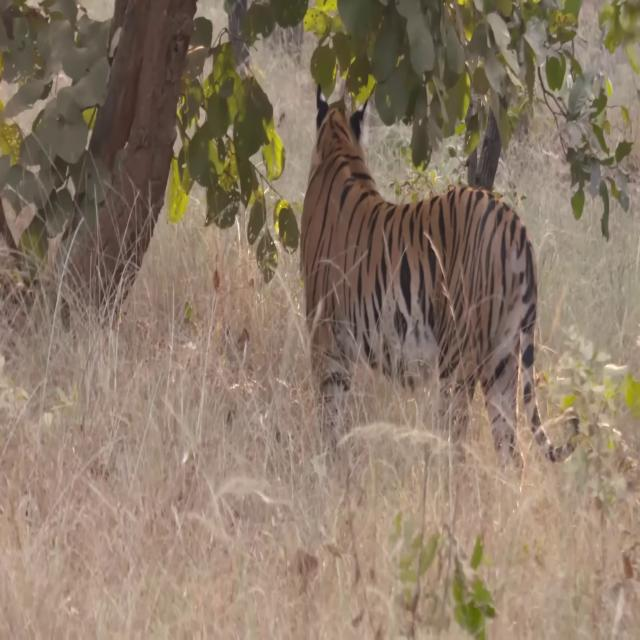tiger: (300, 85, 580, 475)
